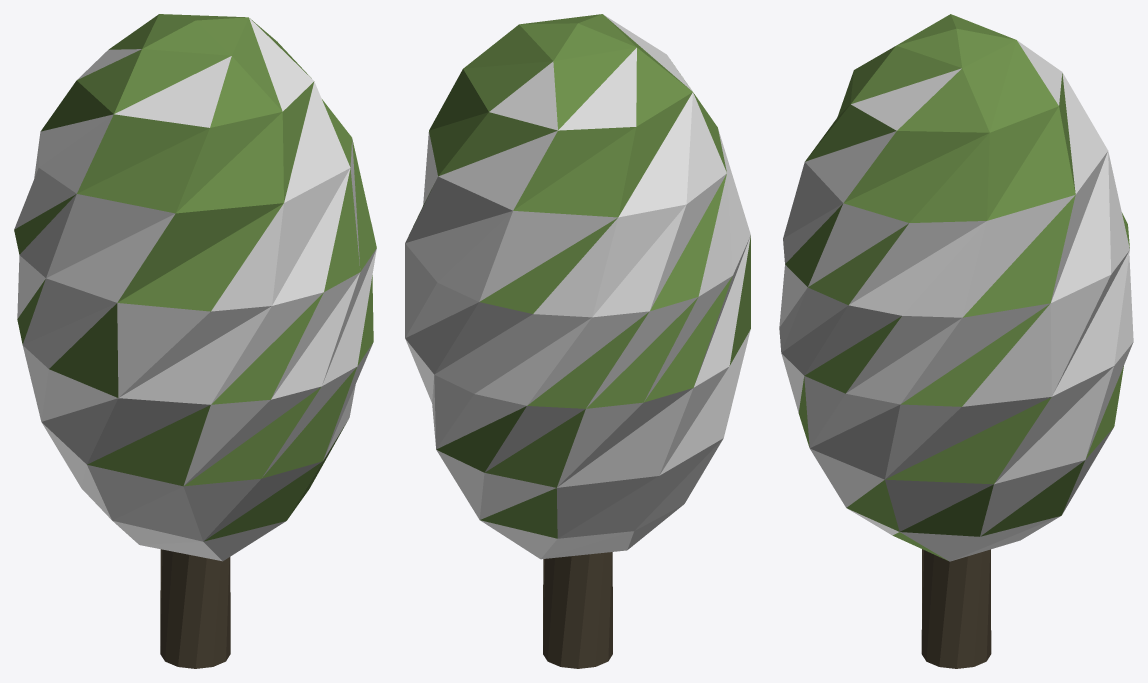
File: winter_snow2.dae
3 views of the same model, side by side, from view 1: azimuth 30°, elevation 25°; view 2: azimuth 150°, elevation 25°; view 3: azimuth 270°, elevation 25° (orthographic).
Visible parts, largest first — view 1: Kugel, Zylinder; view 2: Kugel, Zylinder; view 3: Kugel, Zylinder.
Part boxes in pixels (bbox=[...]): Kugel: bbox=[14, 14, 376, 561]; Zylinder: bbox=[160, 549, 230, 668]; Kugel: bbox=[405, 14, 750, 559]; Zylinder: bbox=[543, 552, 612, 668]; Kugel: bbox=[779, 14, 1133, 561]; Zylinder: bbox=[921, 549, 991, 668].
Size of the model in its own units: 15.14 by 30.05 by 15.43.
